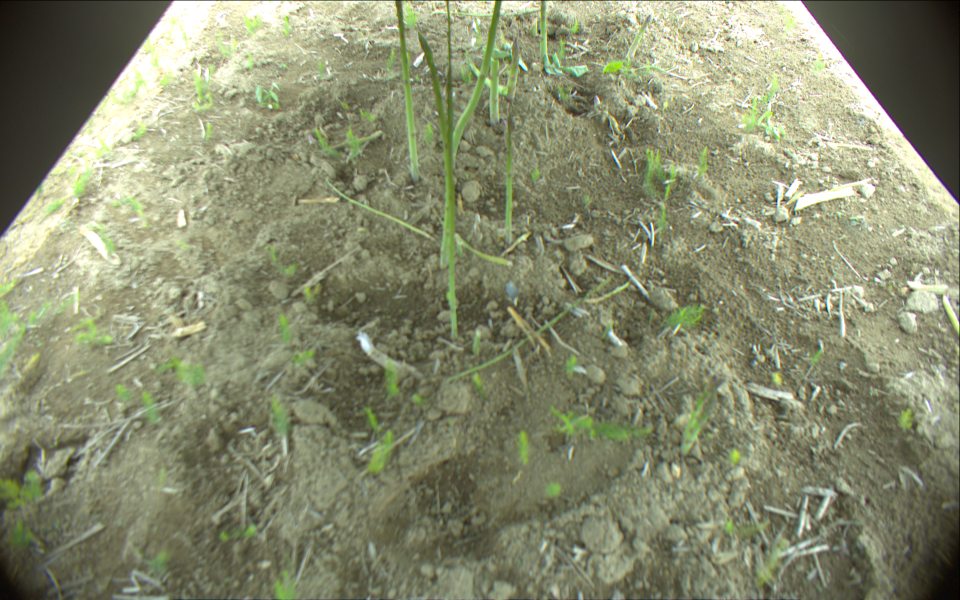aspa: (440, 277, 610, 386), (419, 32, 454, 271), (324, 176, 436, 242), (442, 1, 460, 339), (393, 1, 421, 184), (457, 232, 515, 268), (463, 51, 505, 94), (627, 14, 652, 58), (505, 113, 513, 248), (507, 39, 520, 106), (538, 1, 550, 68), (489, 59, 500, 127)
